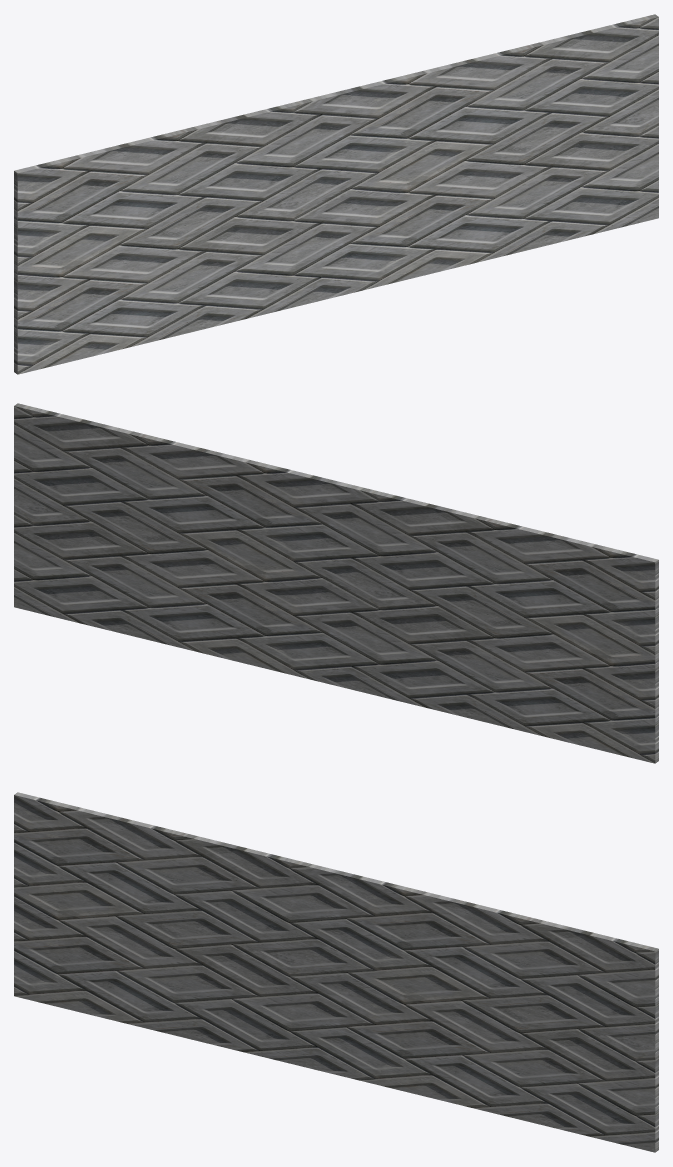
File: wall.fbx
The picture shows the model from 3 angles, top to bottom: view 1: azimuth 30°, elevation 25°; view 2: azimuth 150°, elevation 25°; view 3: azimuth 330°, elevation 25°; orthographic projection.
Visible parts, largest first — view 1: pCube1; view 2: pCube1; view 3: pCube1.
Part boxes in pixels (bbox=[...]): pCube1: bbox=[14, 14, 658, 374]; pCube1: bbox=[14, 403, 658, 763]; pCube1: bbox=[14, 792, 658, 1152].
Bounding box in the file's own units: 1000 × 300 × 10.
Materials: 1 (1 with a texture image).
